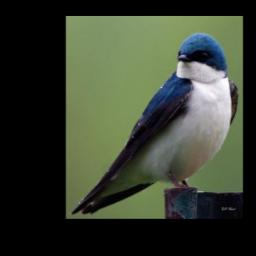Swallow: (70, 31, 239, 217)
